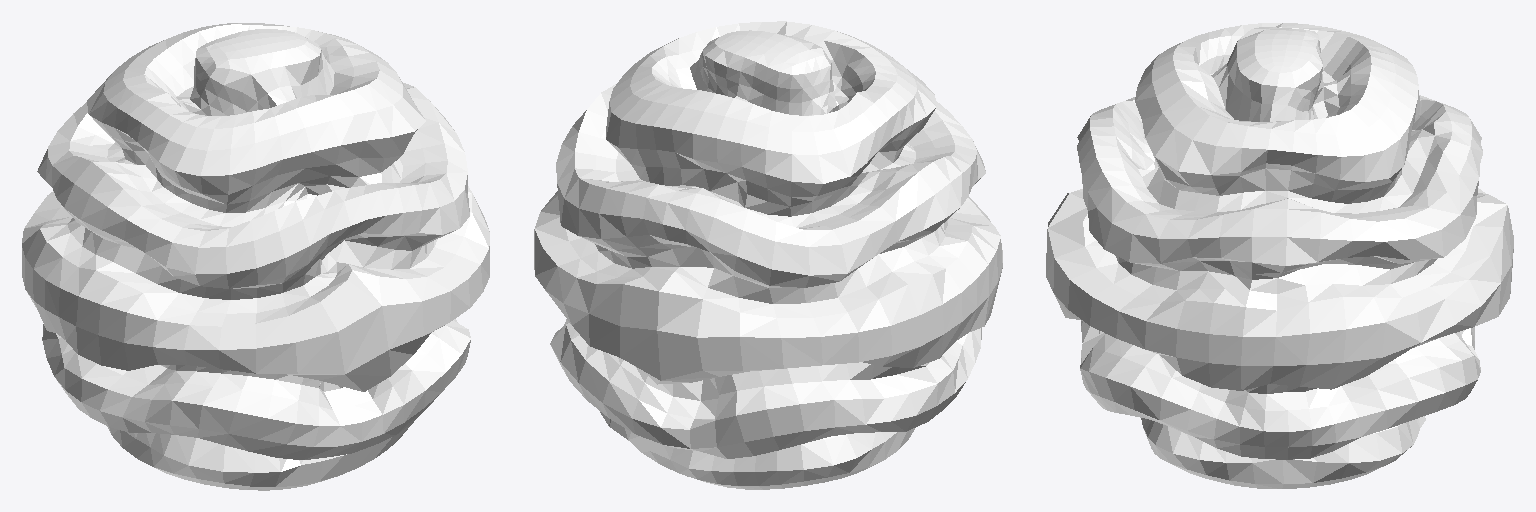
Rendered from Artifact05.Obj.
The picture shows the model from 3 angles: view 1: azimuth 30°, elevation 25°; view 2: azimuth 150°, elevation 25°; view 3: azimuth 270°, elevation 25°; orthographic projection.
Visible parts, largest first — view 1: Volume5; view 2: Volume5; view 3: Volume5.
Boxes of the visible parts, box(x1,y1,x2,y2) form: Volume5: box(22, 23, 489, 490); Volume5: box(534, 21, 1002, 489); Volume5: box(1046, 23, 1513, 488).
Size of the model in its own units: 267 by 267 by 267.